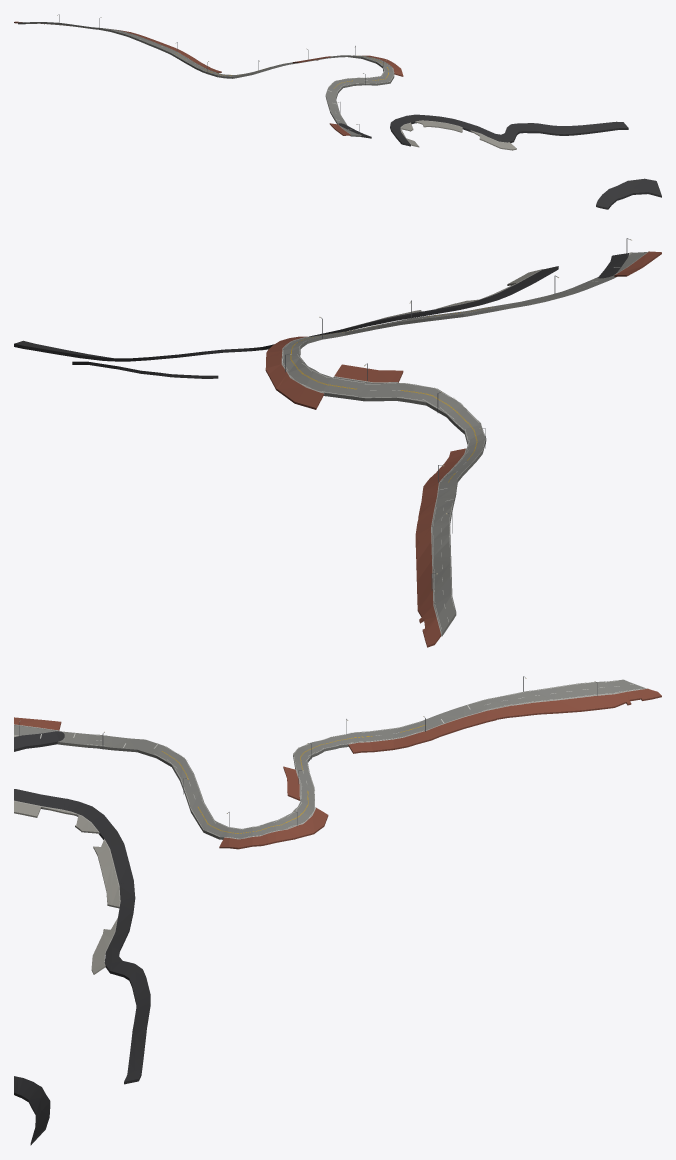
3 views of the same model, one above another, from view 1: azimuth 30°, elevation 25°; view 2: azimuth 150°, elevation 25°; view 3: azimuth 270°, elevation 25° (orthographic). The views are drawn at different scales.
Size of the model in its own units: 293 by 100 by 276.
